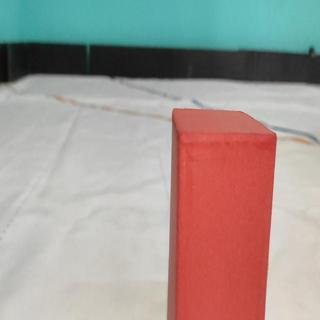redbox: (166, 107, 277, 320)
